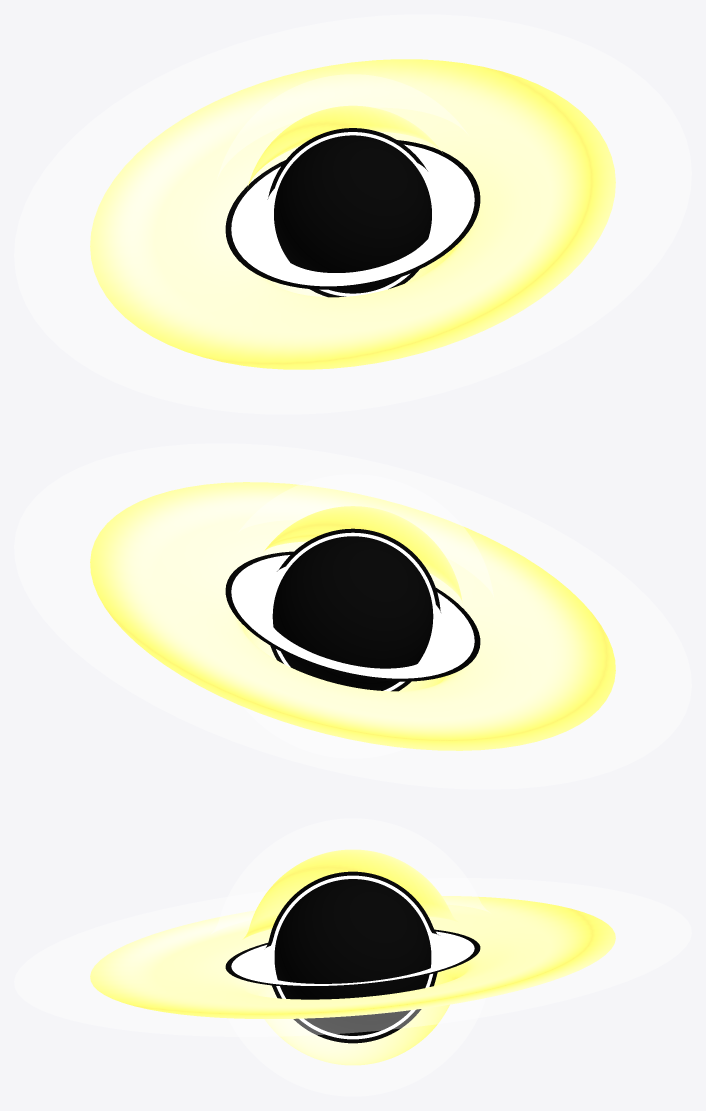
File: gargantua.glb
The picture shows the model from 3 angles, top to bottom: view 1: azimuth 30°, elevation 25°; view 2: azimuth 150°, elevation 25°; view 3: azimuth 270°, elevation 25°; orthographic projection. The views are drawn at different scales.
Parts seen in each view (by area): view 1: accretion disk_1, glowing_4, Blackhole_0, Einstein ring_2, Einstein ring.001_3; view 2: accretion disk_1, glowing_4, Blackhole_0, Einstein ring_2, Einstein ring.001_3; view 3: glowing_4, accretion disk_1, Blackhole_0, Einstein ring_2, Einstein ring.001_3.
Boxes of the visible parts, x1,y1,x2,y2 form: accretion disk_1: [90, 59, 615, 369]; glowing_4: [14, 14, 691, 414]; Blackhole_0: [274, 135, 431, 293]; Einstein ring_2: [231, 132, 474, 296]; Einstein ring.001_3: [225, 128, 480, 297]; accretion disk_1: [90, 482, 615, 750]; glowing_4: [14, 443, 691, 789]; Blackhole_0: [272, 536, 433, 690]; Einstein ring_2: [231, 532, 474, 691]; Einstein ring.001_3: [225, 528, 480, 691]; glowing_4: [14, 818, 691, 1096]; accretion disk_1: [90, 849, 615, 1065]; Blackhole_0: [274, 879, 431, 1035]; Einstein ring_2: [231, 875, 474, 1039]; Einstein ring.001_3: [225, 871, 480, 1043].
Size of the model in its own units: 6.33 by 2.65 by 6.46.
